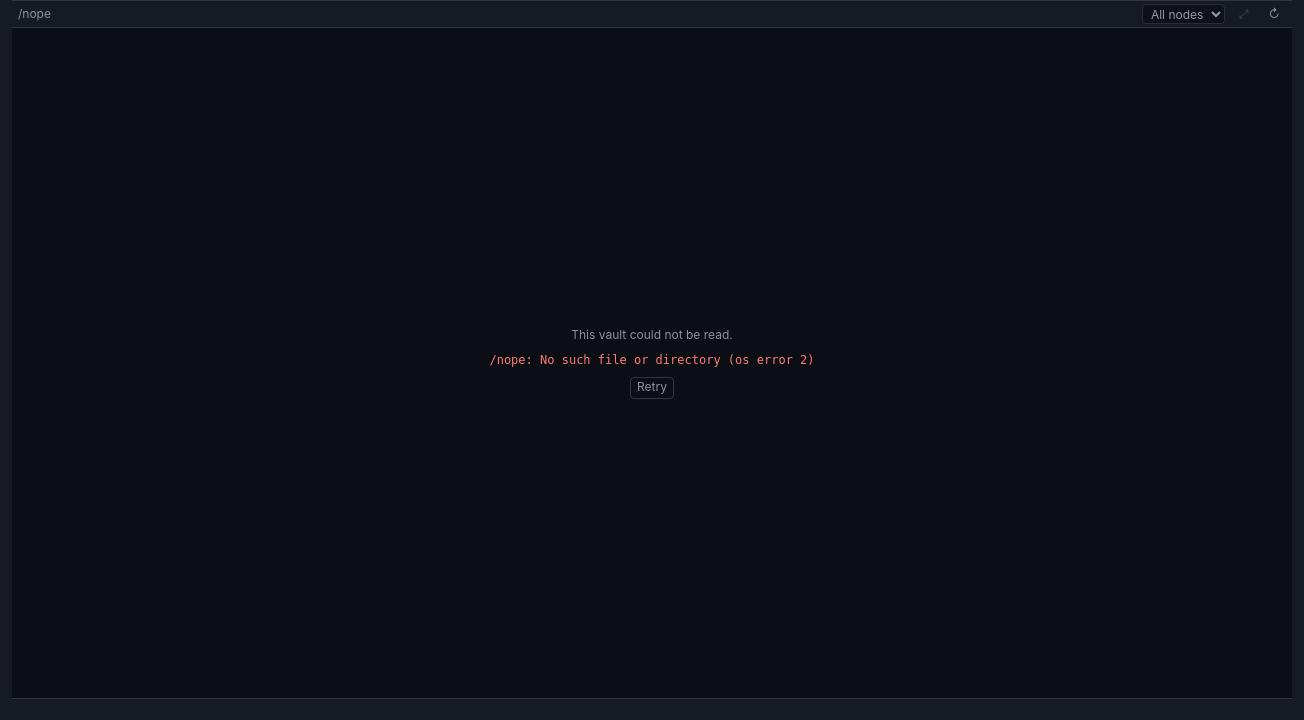
Test: showing a vault › shows the reason and a retry when the vault cannot be read
Check: the text "/nope: No such file or directory (os error 2)" is shown, box top-left (489, 352), bottom-right (814, 369)
What coordinates should you click on to do the following:
click the button "Retry"
I would click on:
 (652, 388)
Its box is top-left (630, 377), bottom-right (674, 399).
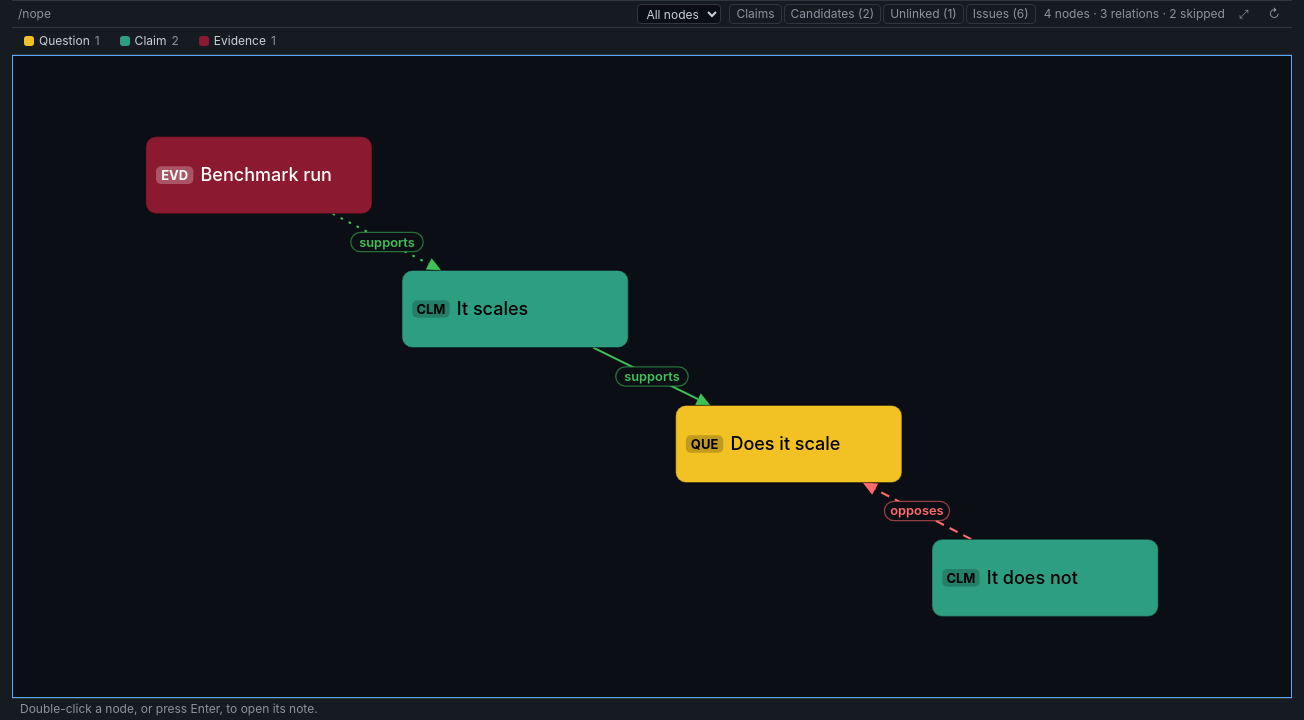
Check: the element named "Graph of " is shown
